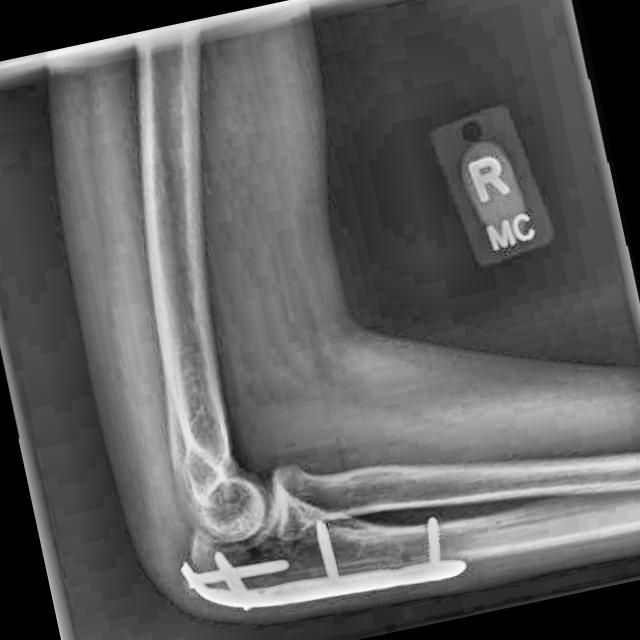elbow positive: (223, 530, 306, 602)
